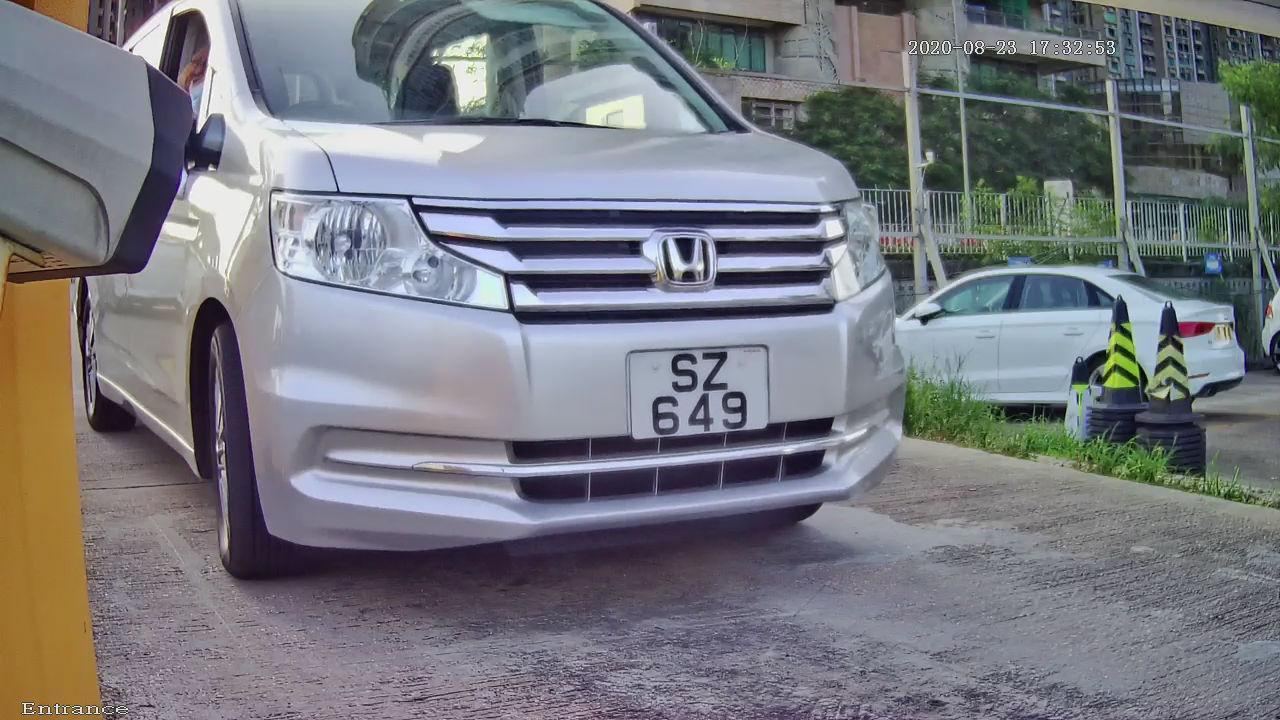Car: (92, 1, 1018, 586)
License Plate: (601, 322, 789, 457)
